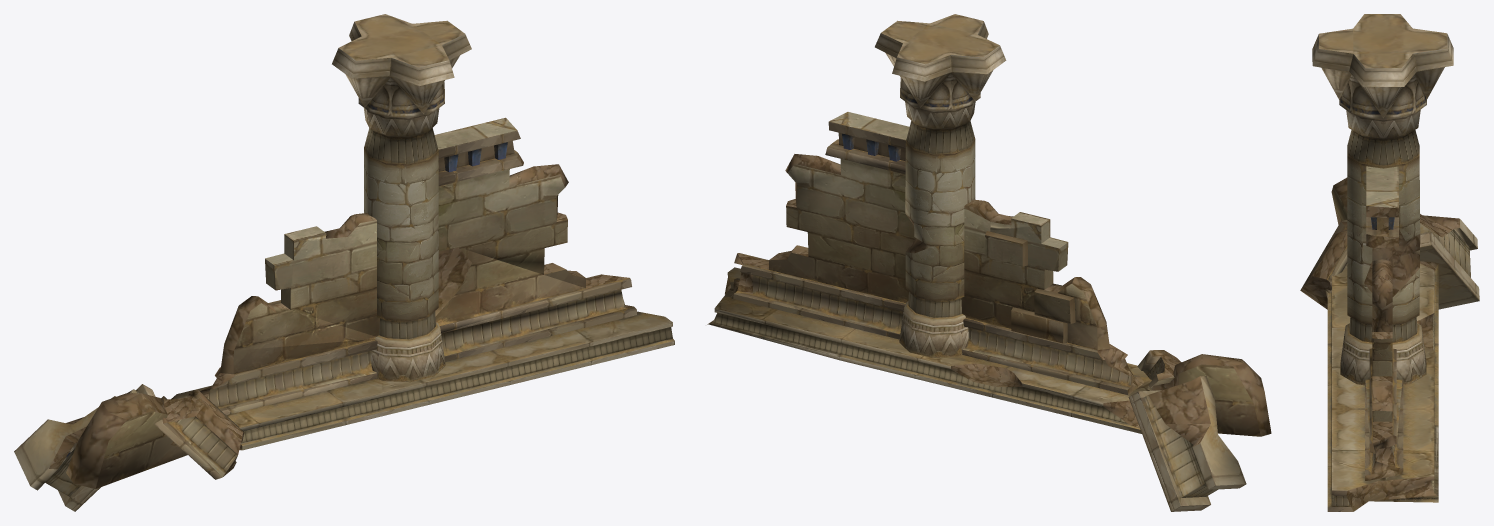
The model's file is TelNumara_BrokenRelic007.FBX.
3 views of the same model, side by side, from view 1: azimuth 30°, elevation 25°; view 2: azimuth 150°, elevation 25°; view 3: azimuth 270°, elevation 25° (orthographic). The views are drawn at different scales.
Parts seen in each view (by area): view 1: TelNumara_BrokenRelic007; view 2: TelNumara_BrokenRelic007; view 3: TelNumara_BrokenRelic007.
Boxes of the visible parts, box(x1,y1,x2,y2) form: TelNumara_BrokenRelic007: box(14, 14, 674, 511); TelNumara_BrokenRelic007: box(707, 14, 1271, 511); TelNumara_BrokenRelic007: box(1300, 14, 1479, 511).
Bounding box in the file's own units: 1211 × 805 × 311.
Materials: 1 (1 with a texture image).
